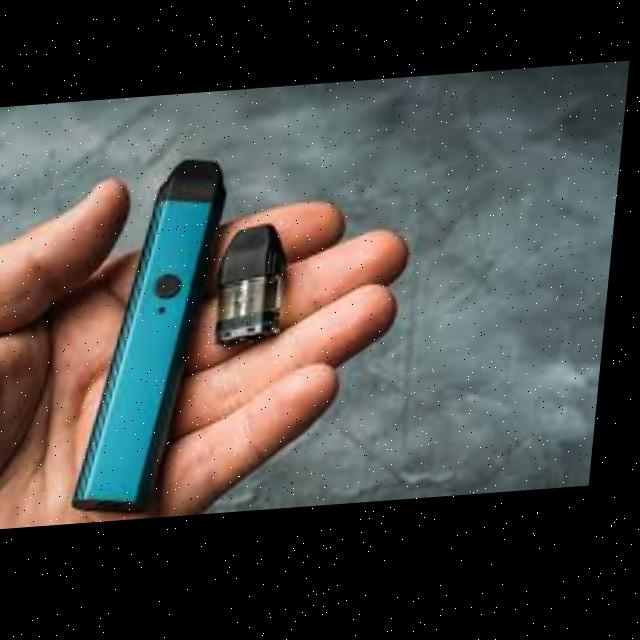vape: (78, 158, 234, 523)
